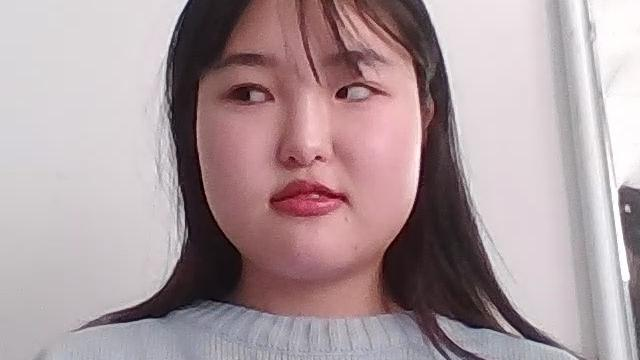eye: (232, 86, 250, 103), (331, 84, 348, 100)
iris: (232, 84, 274, 102), (334, 84, 375, 100)
